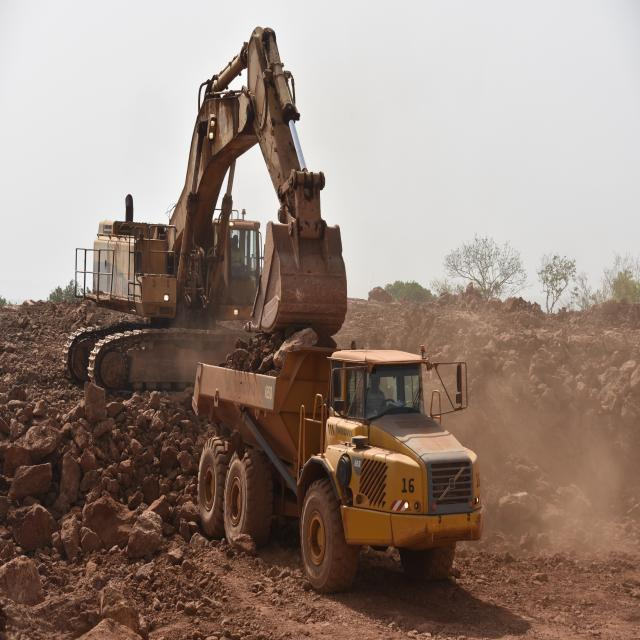dump_truck: (187, 332, 489, 597)
excavator: (34, 12, 390, 402)
